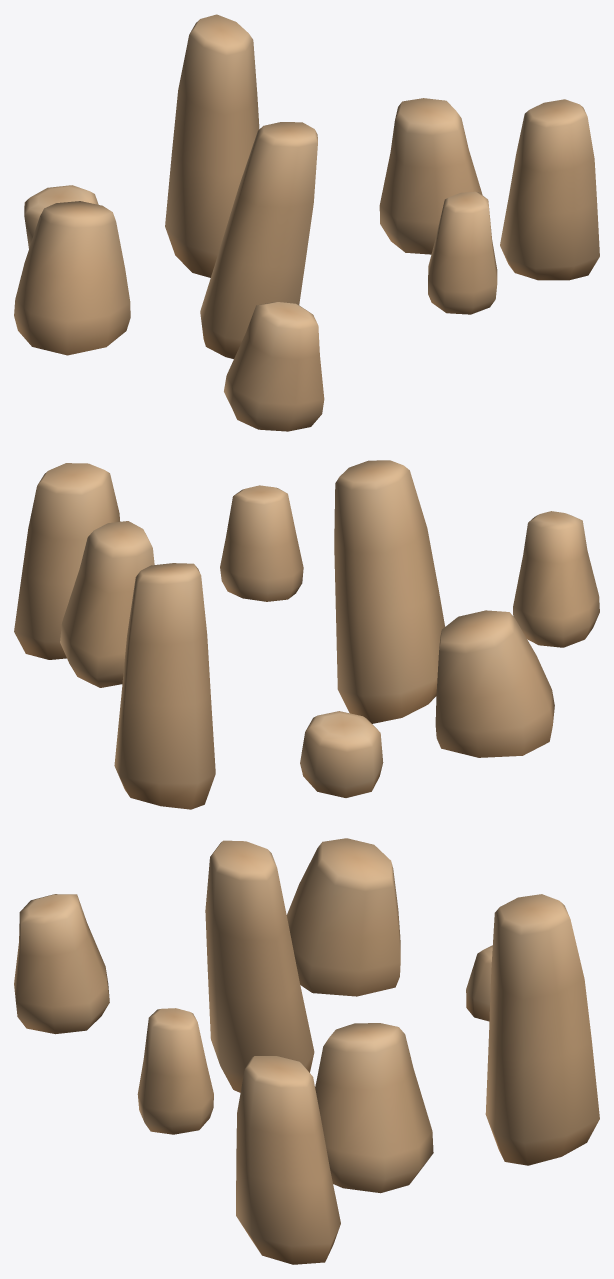
File: SM_Plant_PorciniMushroom_Dead.fbx
3 renders of one model, top to bottom at view 1: azimuth 30°, elevation 25°; view 2: azimuth 150°, elevation 25°; view 3: azimuth 270°, elevation 25°, orthographic. The views are drawn at different scales.
Visible parts, largest first — view 1: SM_Plant_PorciniMushroom_Dead; view 2: SM_Plant_PorciniMushroom_Dead; view 3: SM_Plant_PorciniMushroom_Dead.
Part boxes in pixels (x1,y1,x2,y2): SM_Plant_PorciniMushroom_Dead: [14, 14, 599, 431]; SM_Plant_PorciniMushroom_Dead: [14, 460, 599, 809]; SM_Plant_PorciniMushroom_Dead: [14, 838, 599, 1264].
Size of the model in its own units: 56.52 by 25.2 by 49.44.
